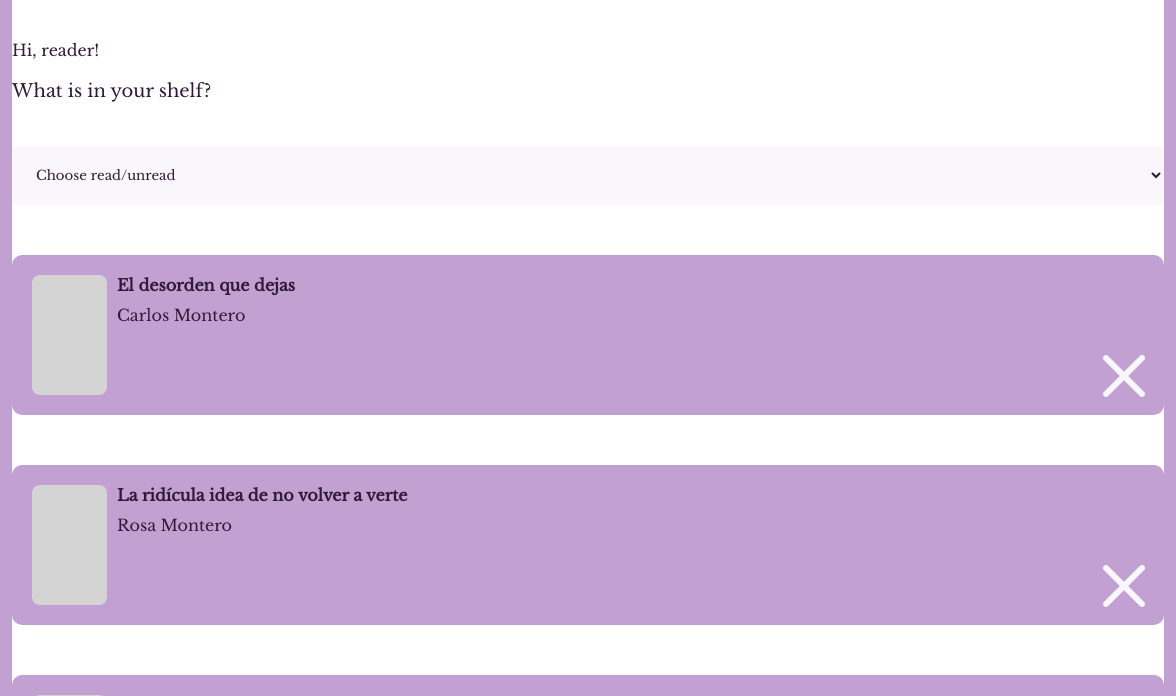
Given a BookCard component › When an user clicks on the card delete button › Then this card should disappear
The width and height of the screenshot is (1176, 696).
Step 1. Click the 1st button named "delete" → (1124, 378), box [1094,351,1154,405]
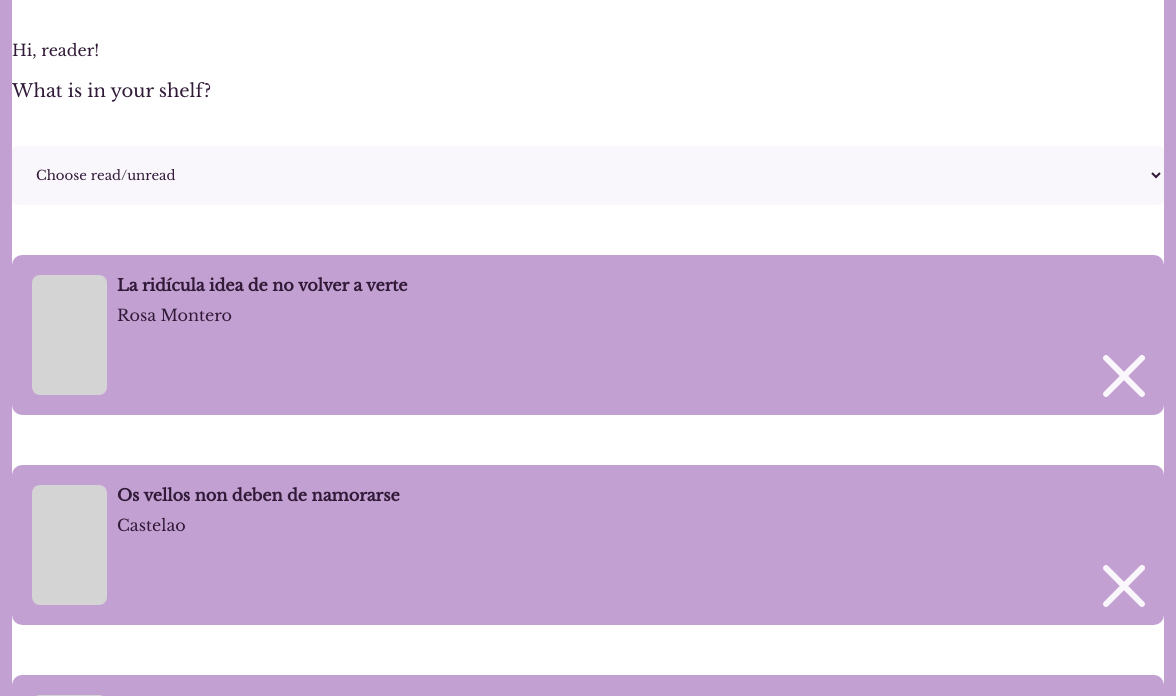
Expected: the link "El desorden que dejas" is gone
